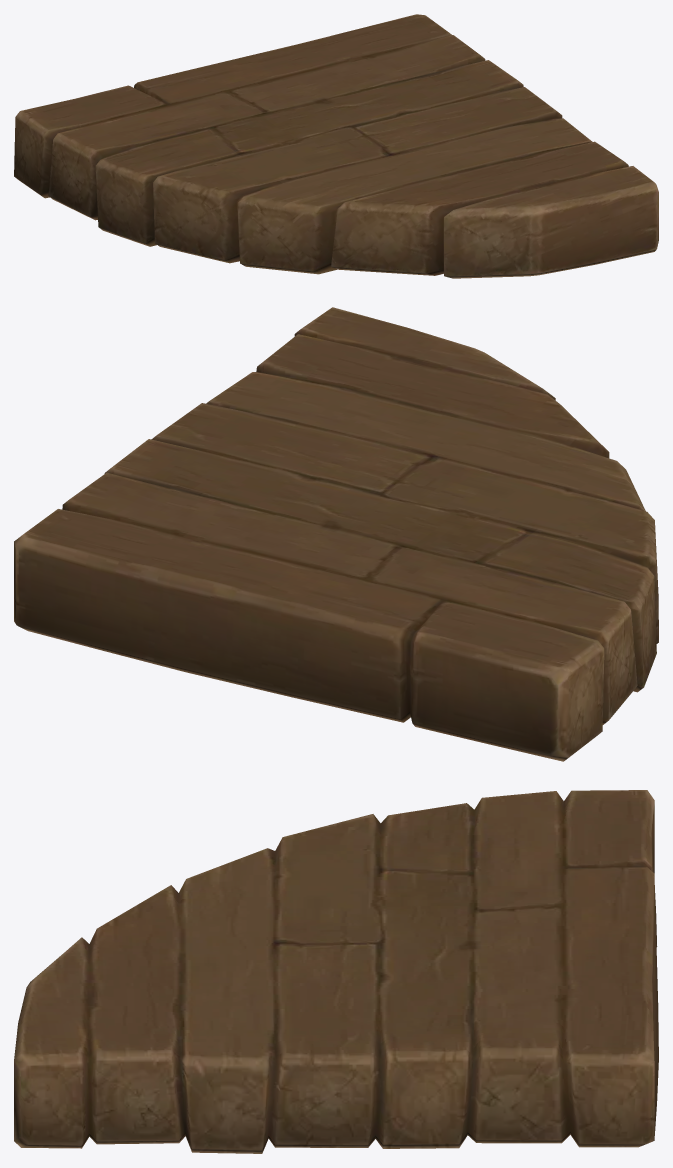
3 views of the same model, one above another, from view 1: azimuth 30°, elevation 25°; view 2: azimuth 150°, elevation 25°; view 3: azimuth 270°, elevation 25° (orthographic). The views are drawn at different scales.
Bounding box in the file's own units: 5.06 × 0.8742 × 5.04.
1 material, 1 textured.
